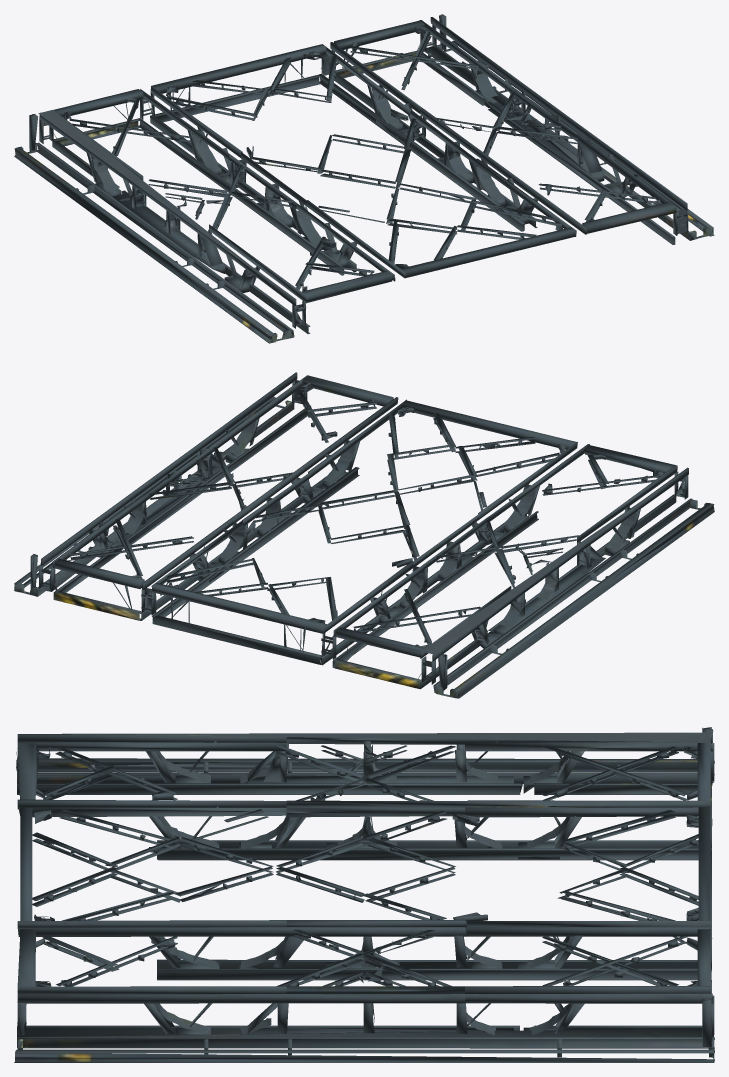
Rendered from p_bridge.glb.
The picture shows the model from 3 angles, top to bottom: view 1: azimuth 30°, elevation 25°; view 2: azimuth 150°, elevation 25°; view 3: azimuth 270°, elevation 25°; orthographic projection. The views are drawn at different scales.
Bounding box in the file's own units: 0.9477 × 0.0781 × 0.9517.
Materials: 1 (1 with a texture image).
